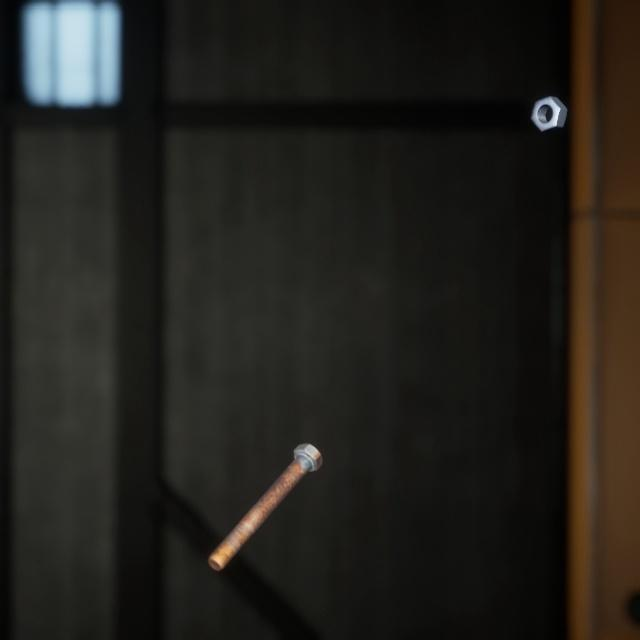bolt: (203, 417, 326, 552)
nut: (526, 79, 571, 125)
